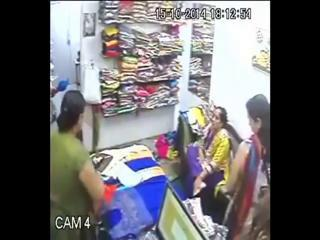Normal: (51, 90, 108, 239), (216, 94, 270, 239), (192, 106, 232, 220)
